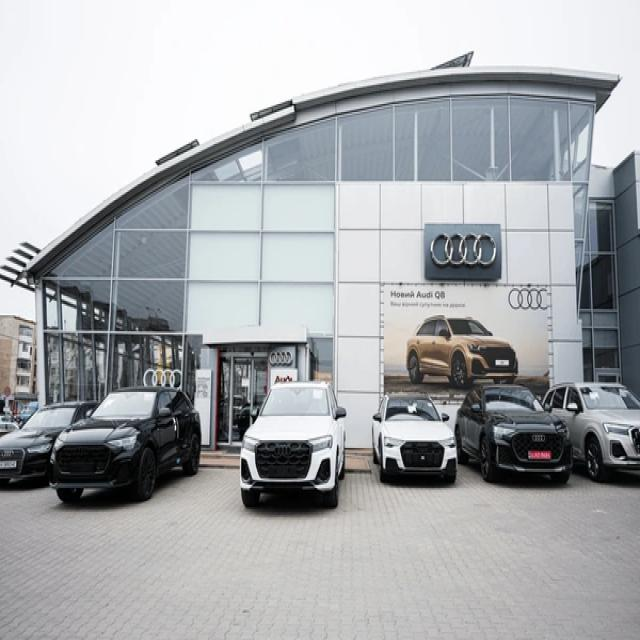audi: (431, 226, 498, 272), (141, 367, 185, 392), (268, 348, 294, 368), (270, 443, 294, 461), (531, 432, 550, 445)
